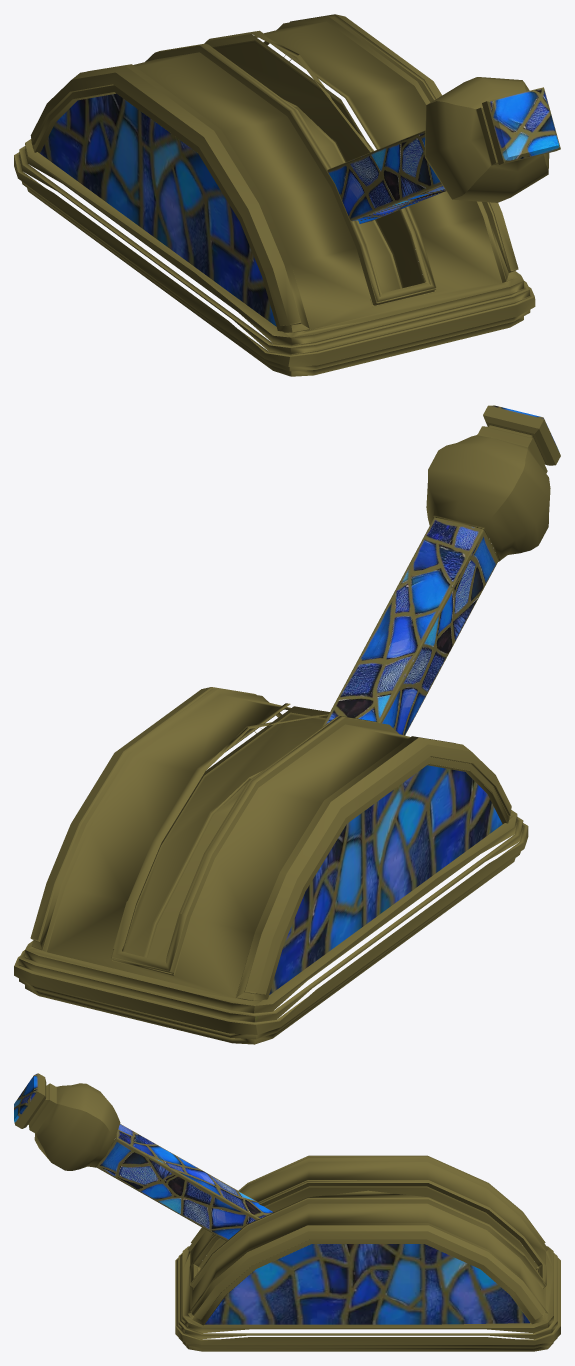
Rendered from leverWholeP2_lowPoly_lowPoly.glb.
3 views of the same model, one above another, from view 1: azimuth 30°, elevation 25°; view 2: azimuth 150°, elevation 25°; view 3: azimuth 270°, elevation 25° (orthographic). The views are drawn at different scales.
Visible parts, largest first — view 1: Mesh_1.001; view 2: Mesh_1.001; view 3: Mesh_1.001.
Boxes of the visible parts, <box> form: Mesh_1.001: <box>14,14,560,376</box>; Mesh_1.001: <box>14,405,560,1044</box>; Mesh_1.001: <box>14,1073,560,1351</box>.
Size of the model in its own units: 0.4998 by 0.6071 by 1.32.
Materials: 2 (2 with a texture image).
